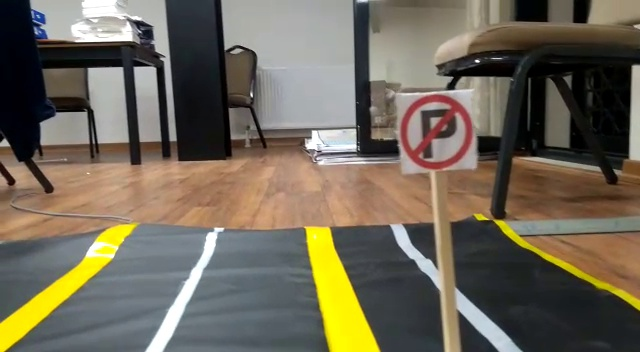park_yapilmaz: (396, 92, 476, 167)
